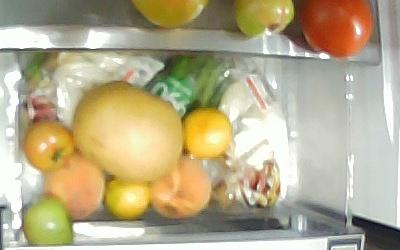peach: (43, 154, 105, 221), (149, 156, 212, 220)
pear: (73, 79, 183, 180)
tangerine: (183, 107, 233, 158), (103, 177, 151, 219)
tomato: (24, 119, 75, 173), (23, 197, 73, 246)
